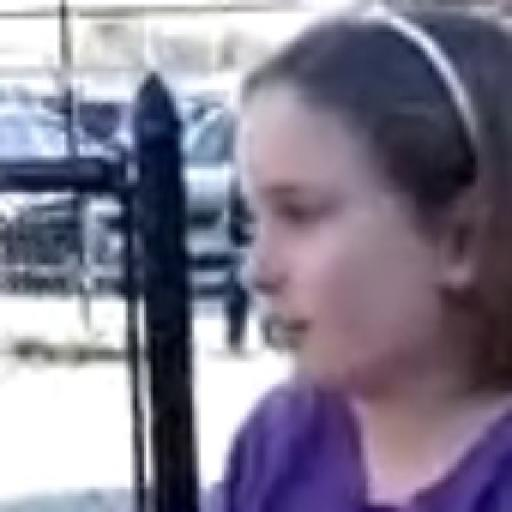Autism: (168, 51, 498, 410)
